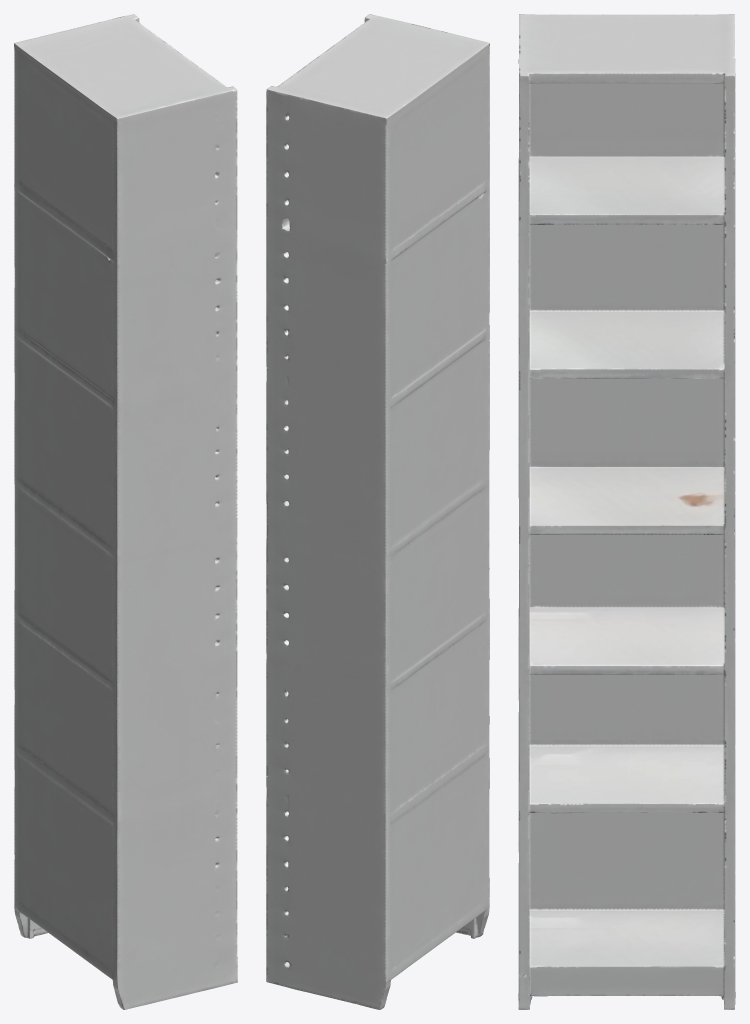
3 renders of one model, left to right at view 1: azimuth 30°, elevation 25°; view 2: azimuth 150°, elevation 25°; view 3: azimuth 270°, elevation 25°, orthographic. The views are drawn at different scales.
Visible parts, largest first — view 1: tripo_node_2337951e-81db-49f9-a18a-9cc5c38aceb5; view 2: tripo_node_2337951e-81db-49f9-a18a-9cc5c38aceb5; view 3: tripo_node_2337951e-81db-49f9-a18a-9cc5c38aceb5.
Boxes of the visible parts, x1=… form: tripo_node_2337951e-81db-49f9-a18a-9cc5c38aceb5: x1=14, y1=14, x2=237, y2=1009; tripo_node_2337951e-81db-49f9-a18a-9cc5c38aceb5: x1=266, y1=14, x2=489, y2=1009; tripo_node_2337951e-81db-49f9-a18a-9cc5c38aceb5: x1=518, y1=14, x2=735, y2=1009.
Size of the model in its own units: 0.1422 by 1 by 0.2105.
1 material, 1 textured.
